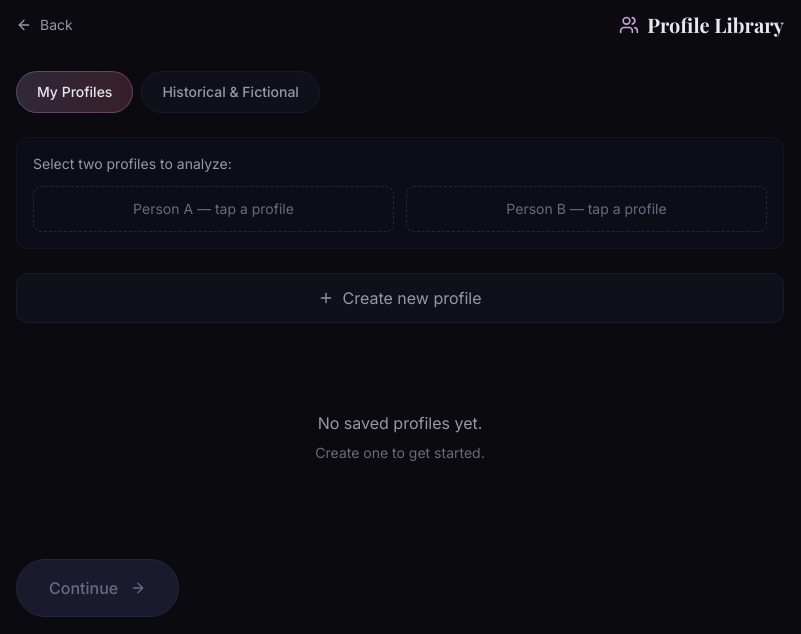
Scenario: ProfileLibrary › switching to Historical & Fictional tab shows fictional profiles
Check: the text "Marcus Aurelius" is not shown
// Click on the fictional tab
Click the tab "Historical & Fictional" at [231, 92], box [141,71,320,113]
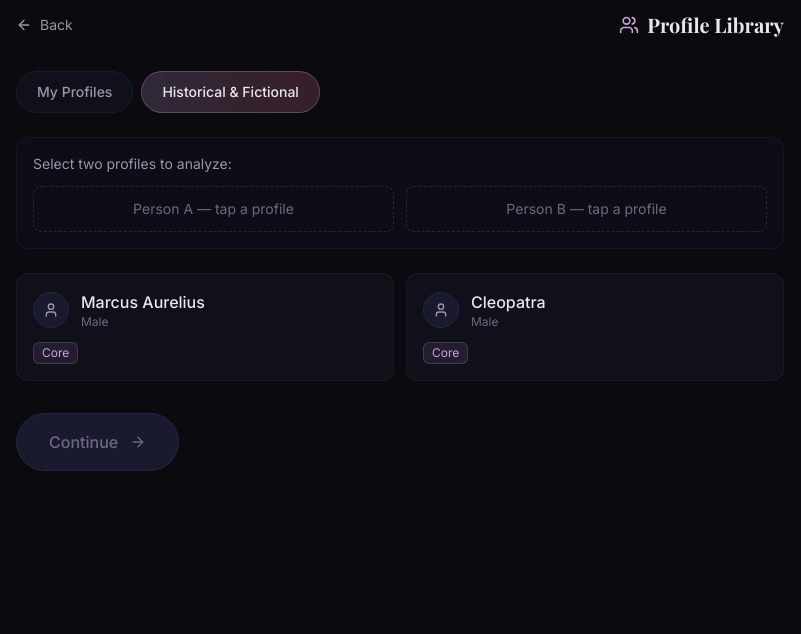
Check: the heading "Marcus Aurelius" is shown, box [81,290,205,314]
Check: the heading "Cleopatra" is shown, box [471,290,546,314]
